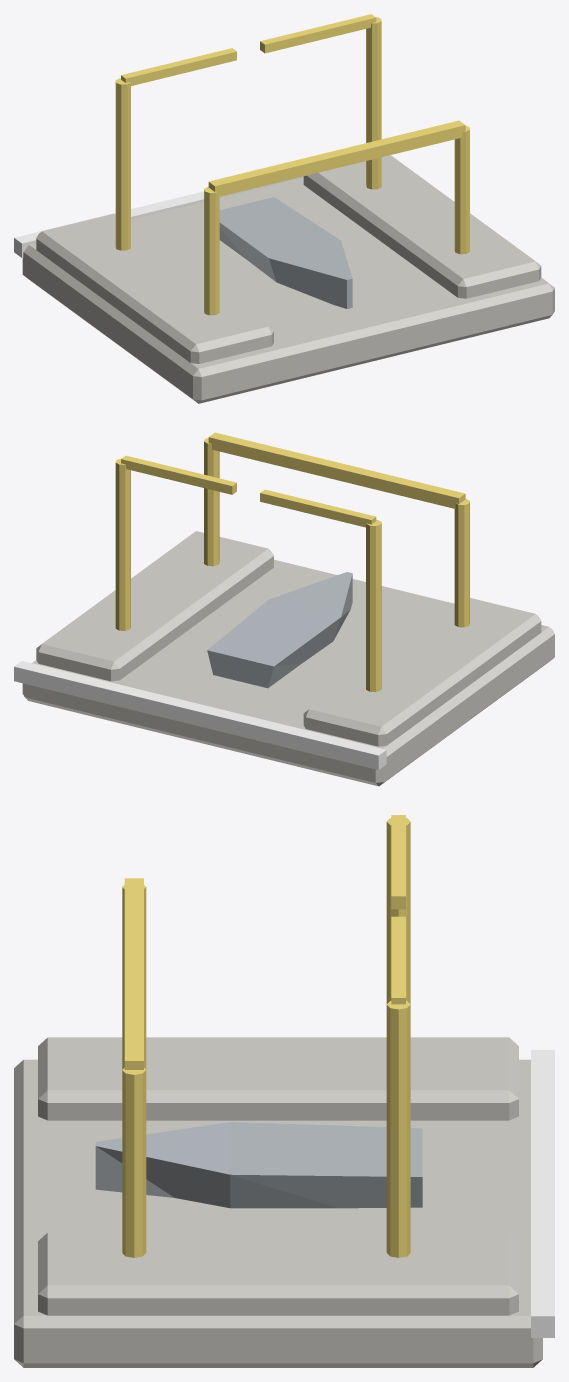
The model's file is shipyard.glb.
3 renders of one model, top to bottom at view 1: azimuth 30°, elevation 25°; view 2: azimuth 150°, elevation 25°; view 3: azimuth 270°, elevation 25°, orthographic. The views are drawn at different scales.
Visible parts, largest first — view 1: main; view 2: main; view 3: main.
Boxes of the visible parts, x1,y1,x2,y2 form: main: [14, 14, 554, 403]; main: [14, 432, 554, 786]; main: [14, 815, 554, 1367].
Bounding box in the file's own units: 1.31 × 0.765 × 1.12.
